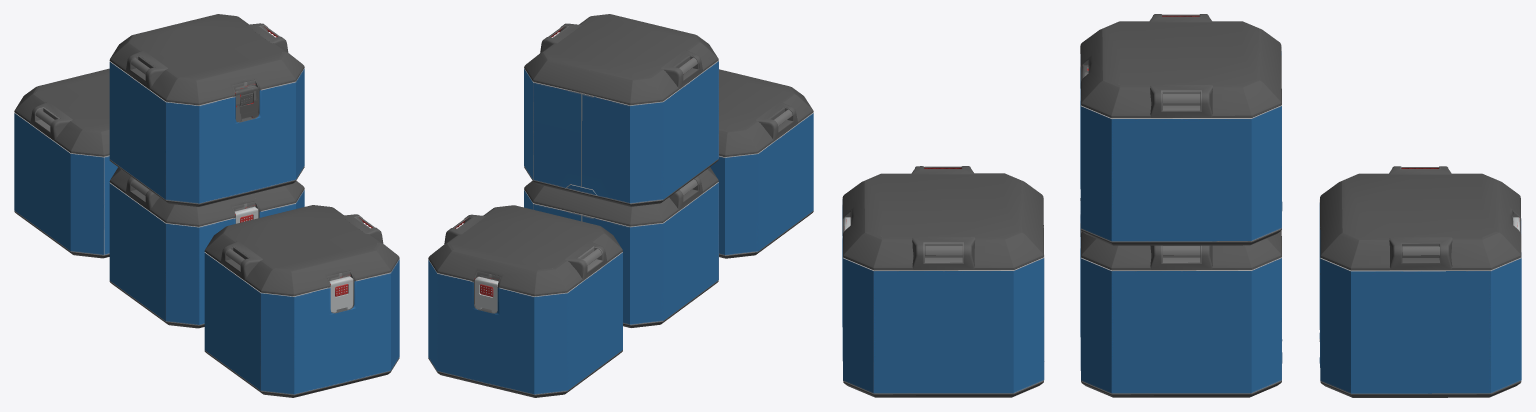
Rendered from kutular.fbx.
The picture shows the model from 3 angles, left to right: view 1: azimuth 30°, elevation 25°; view 2: azimuth 150°, elevation 25°; view 3: azimuth 270°, elevation 25°; orthographic projection. The views are drawn at different scales.
Parts seen in each view (by area): view 1: Cube.002, Cube.003, Cube, Cube.001; view 2: Cube.003, Cube, Cube.002, Cube.001; view 3: Cube.002, Cube, Cube.003, Cube.001.
Boxes of the visible parts, x1,y1,x2,y2 form: Cube.002: [204, 205, 399, 397]; Cube.003: [109, 14, 304, 206]; Cube: [14, 68, 117, 258]; Cube.001: [109, 167, 304, 328]; Cube.003: [524, 14, 718, 206]; Cube: [428, 205, 622, 397]; Cube.002: [710, 69, 813, 258]; Cube.001: [524, 167, 718, 327]; Cube.002: [842, 166, 1044, 397]; Cube: [1319, 166, 1521, 397]; Cube.003: [1080, 14, 1282, 245]; Cube.001: [1080, 198, 1282, 397].
Size of the model in its own units: 1170 by 1941 by 3929.
